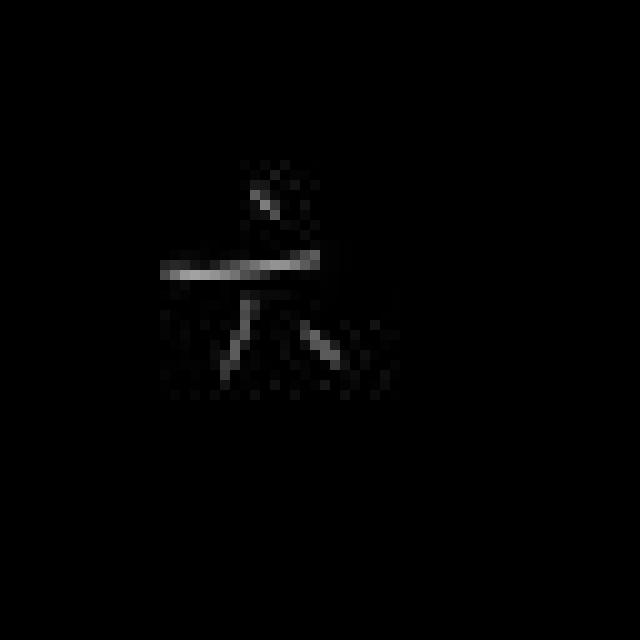6 -six-: (142, 176, 356, 386)
